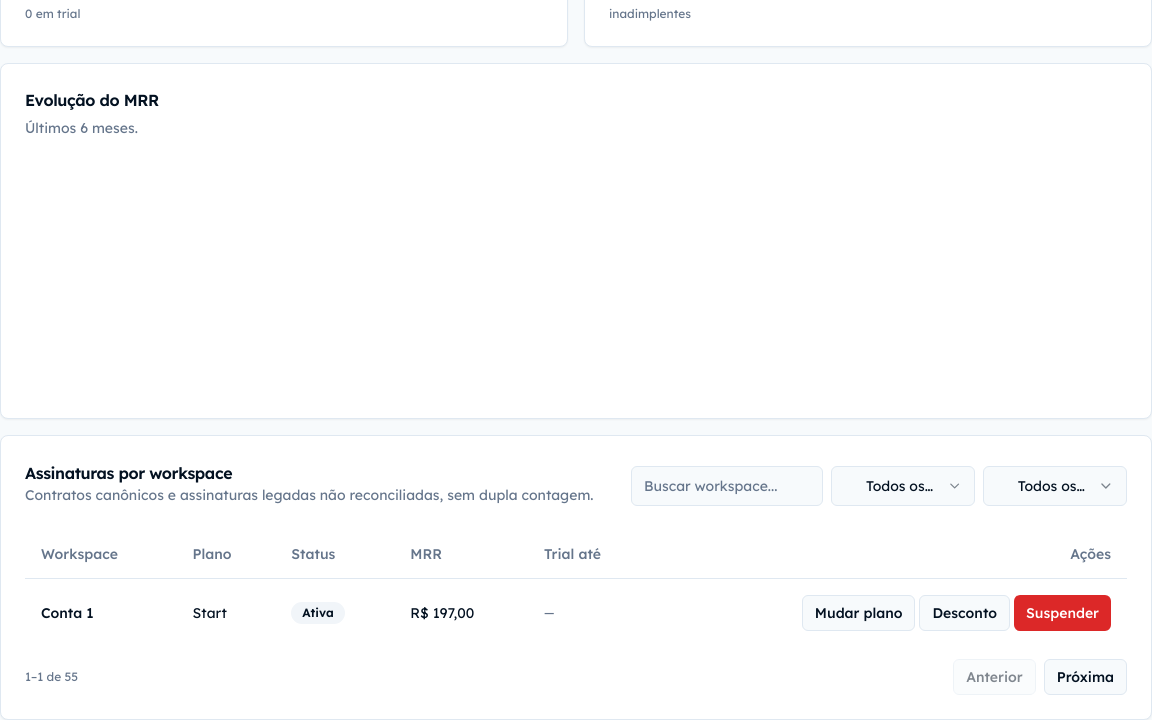
Test: PlatformBillingPanel › navigates subscriptions with server-side totals
(page scrolled)
Expected: the button "Conta 1" is shown, [41,602,94,622]
Expected: the text "1–1 de 55" is shown, [25,668,78,684]
Click the button "Próxima" at coordinates (1085, 676), box [1044,658,1127,694]
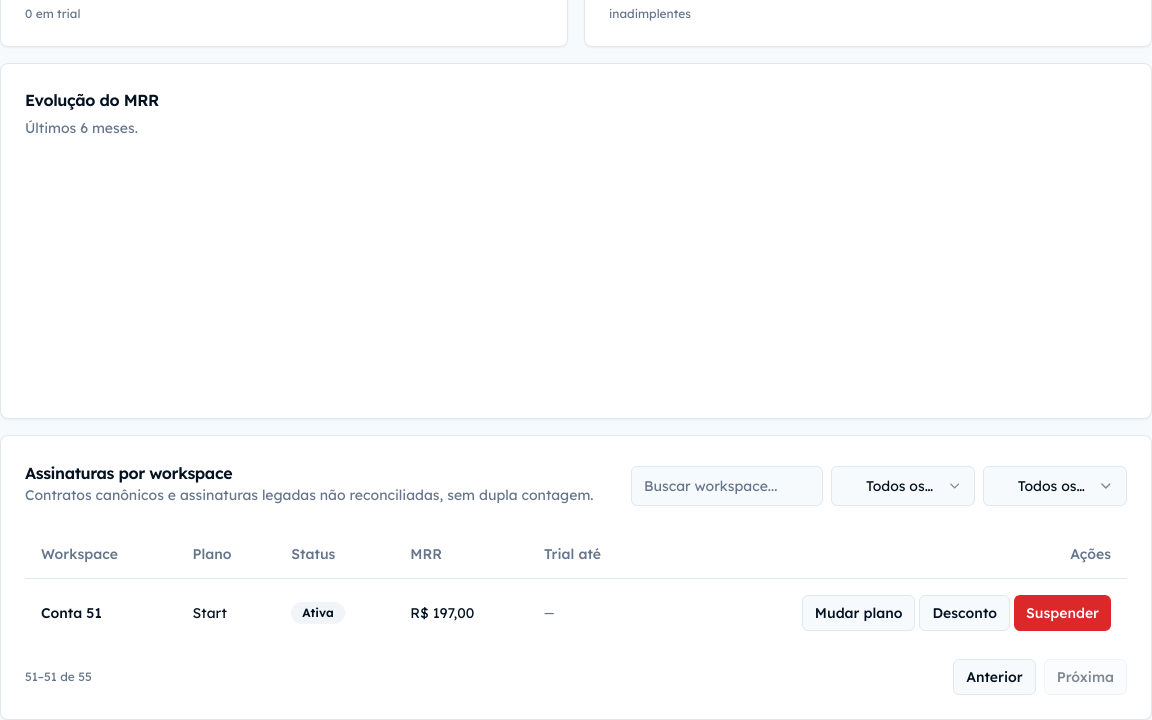
Expected: the button "Conta 51" is shown, [41,602,102,622]
Expected: the button "Próxima" is disabled, [1044,658,1127,694]
